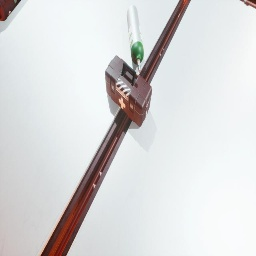0: (127, 5, 144, 74)
FirstAidBox ,: (105, 55, 152, 127)
NitrogenTank ,: (0, 0, 21, 21)
